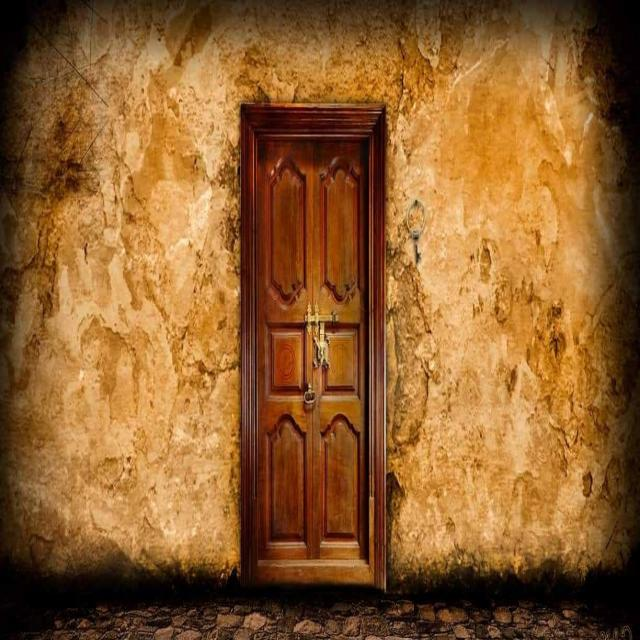close: (242, 116, 386, 584)
